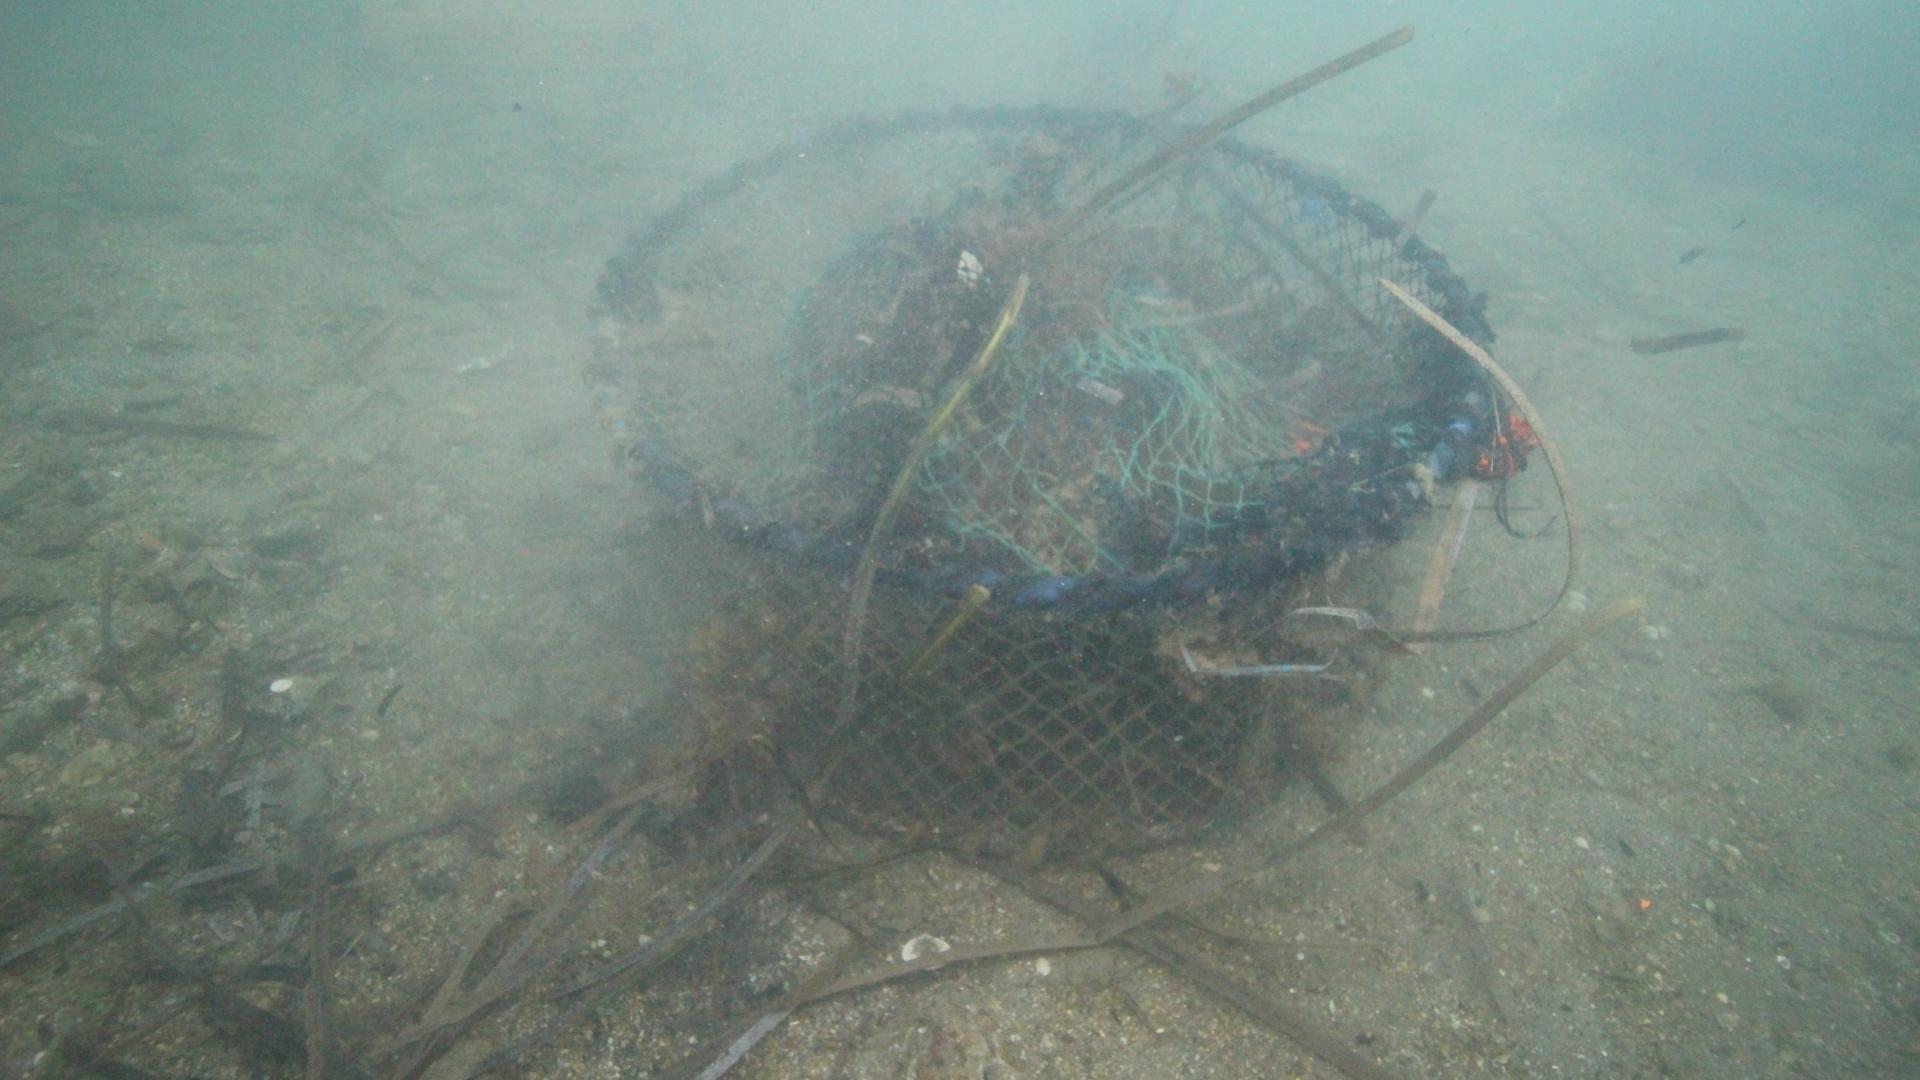circular fish trap: (587, 98, 1494, 862)
